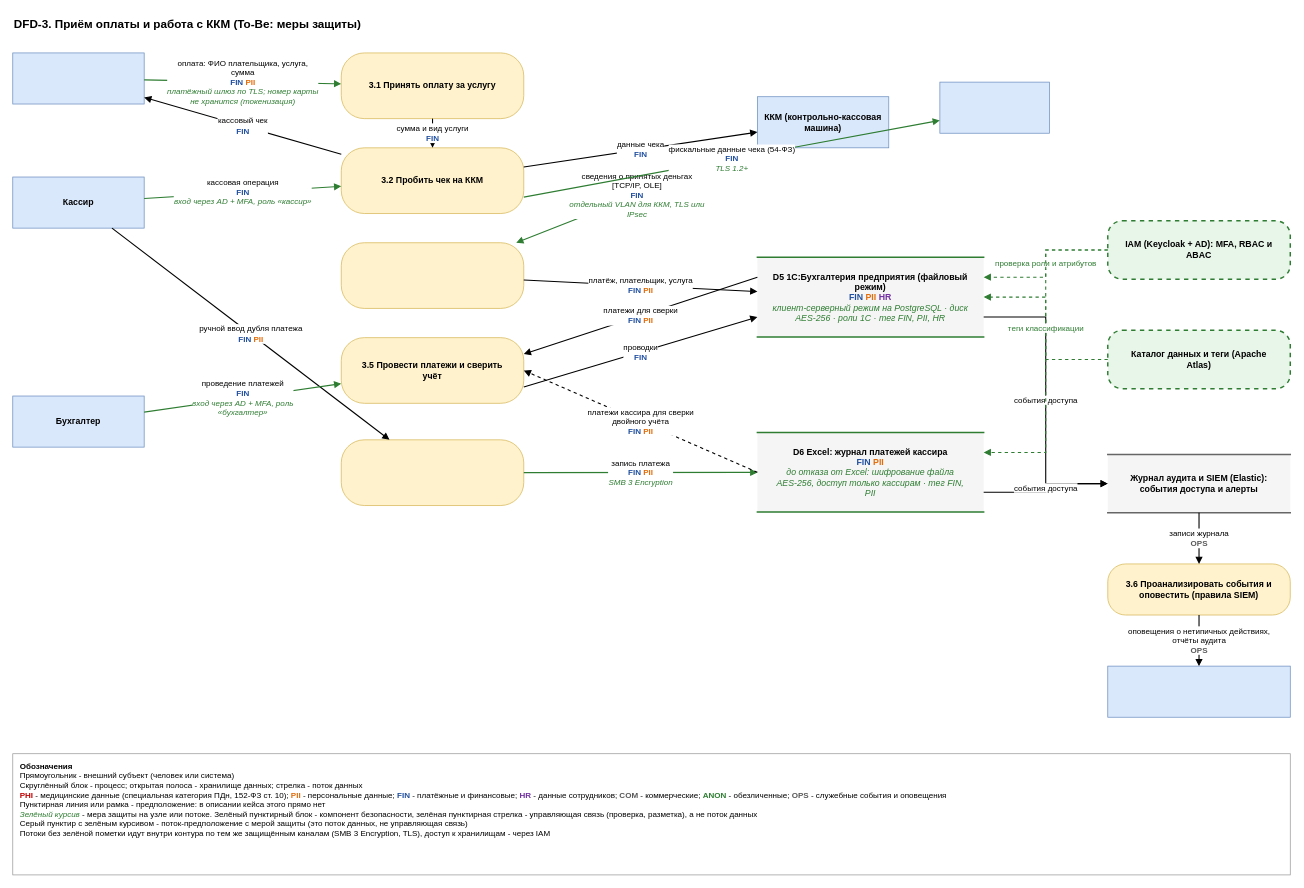
Image size: 1304x888. Some labels were removed from this diagram. Each missing label, with the box of its shape:
3.3 Передать платёж в 1С:Бухгалтерия: (341, 242, 524, 308)
3.4 Продублировать платёж в Excel (двойной учёт) убрать дубль: единый учёт в 1С: (341, 439, 524, 506)
Команда IT и ответственный за ПДн: (1107, 665, 1290, 717)
ОФД и ФНС: (939, 81, 1049, 133)
Пациент: (12, 52, 144, 104)
